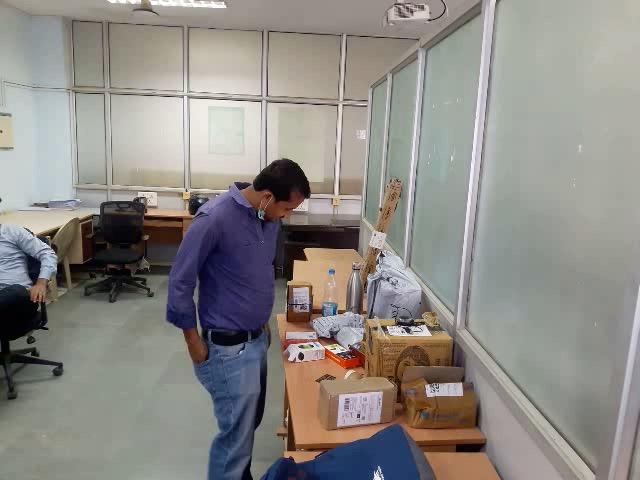shoplifting: (119, 305, 296, 408)
